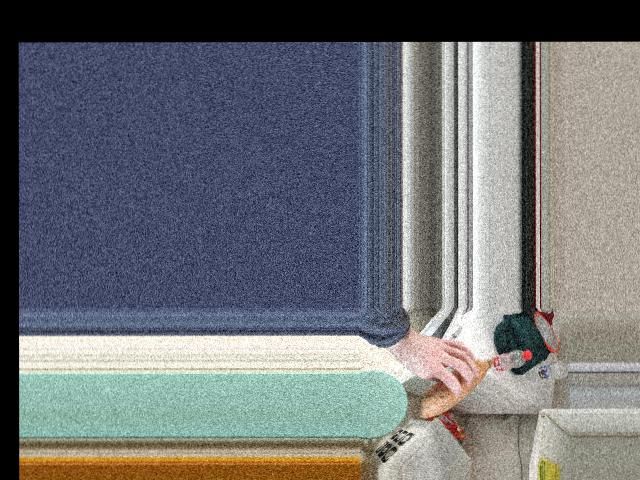sweet_potato: (429, 343, 489, 415)
